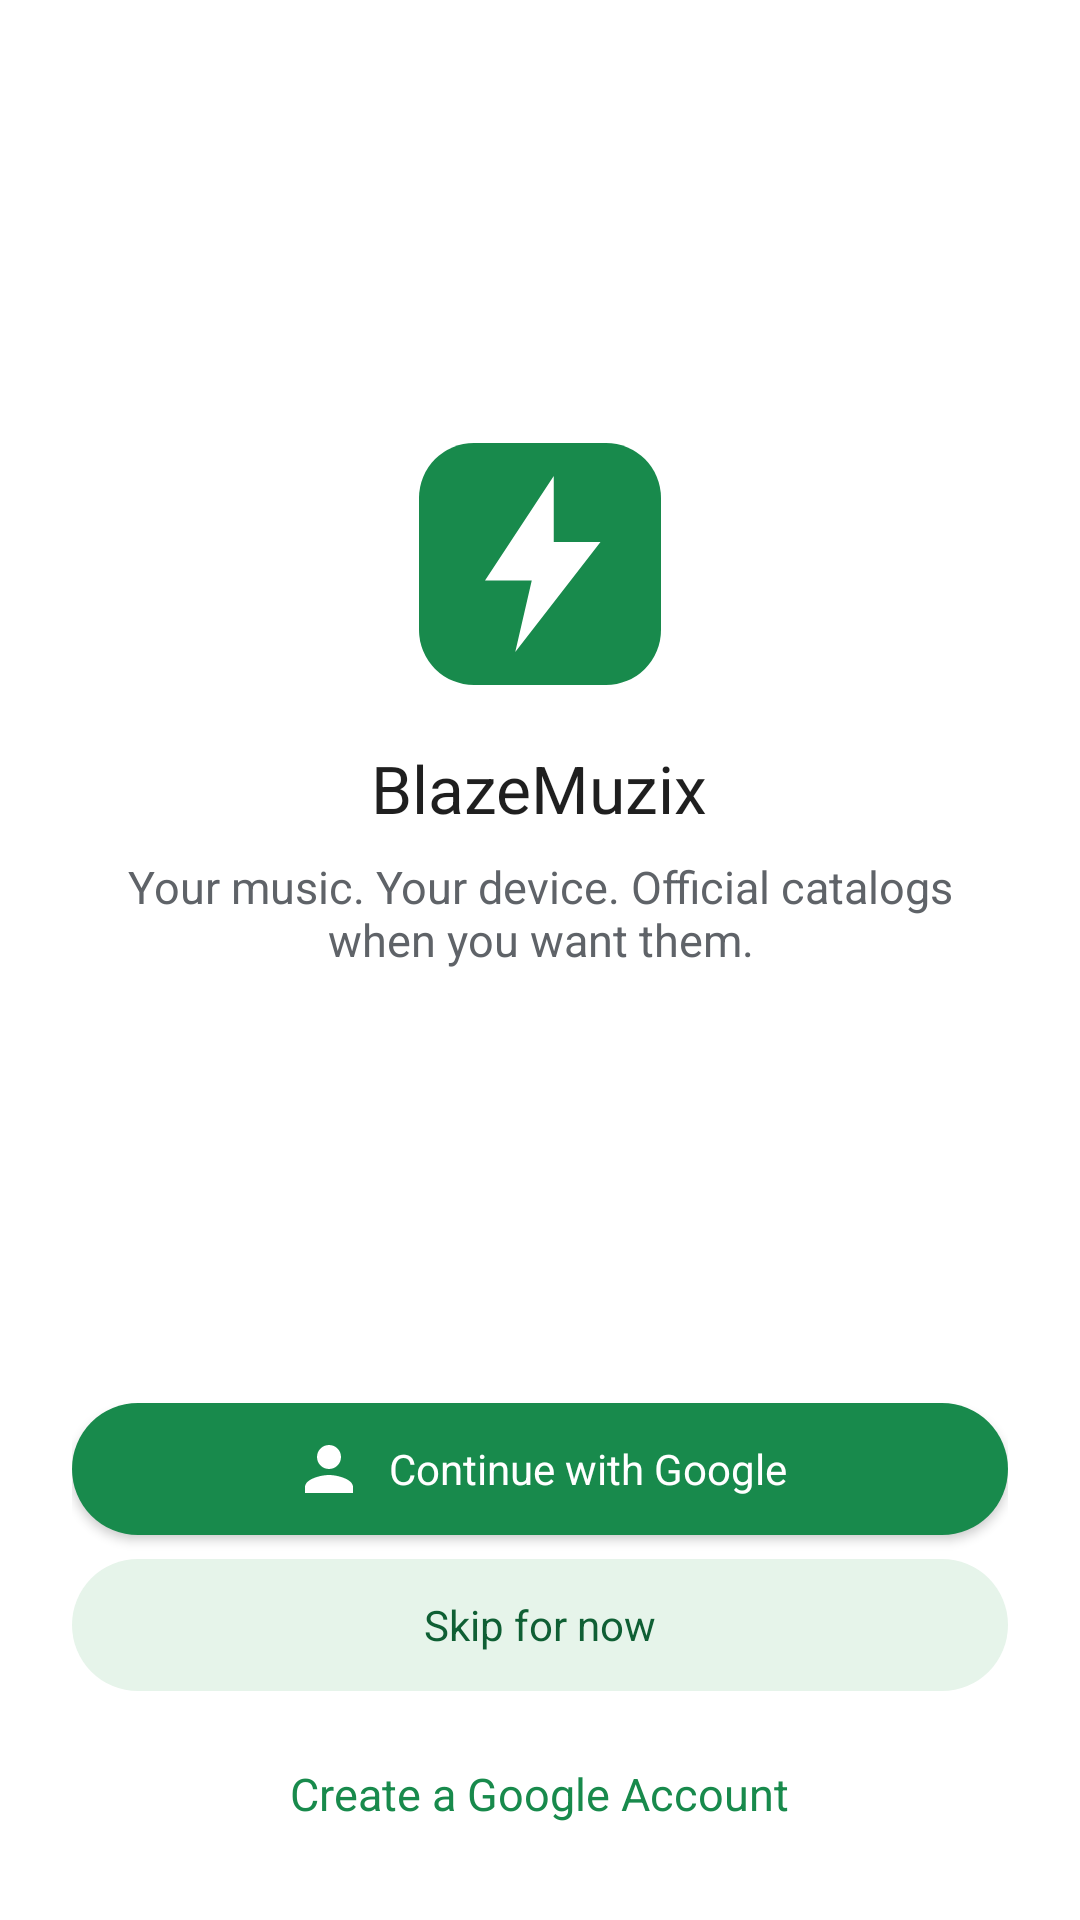

Locate icon controls on the screen. Image size 1080px x 1920px, boxes as region(x1, y1, x2, y2).
brand mark: region(419, 443, 661, 685)
